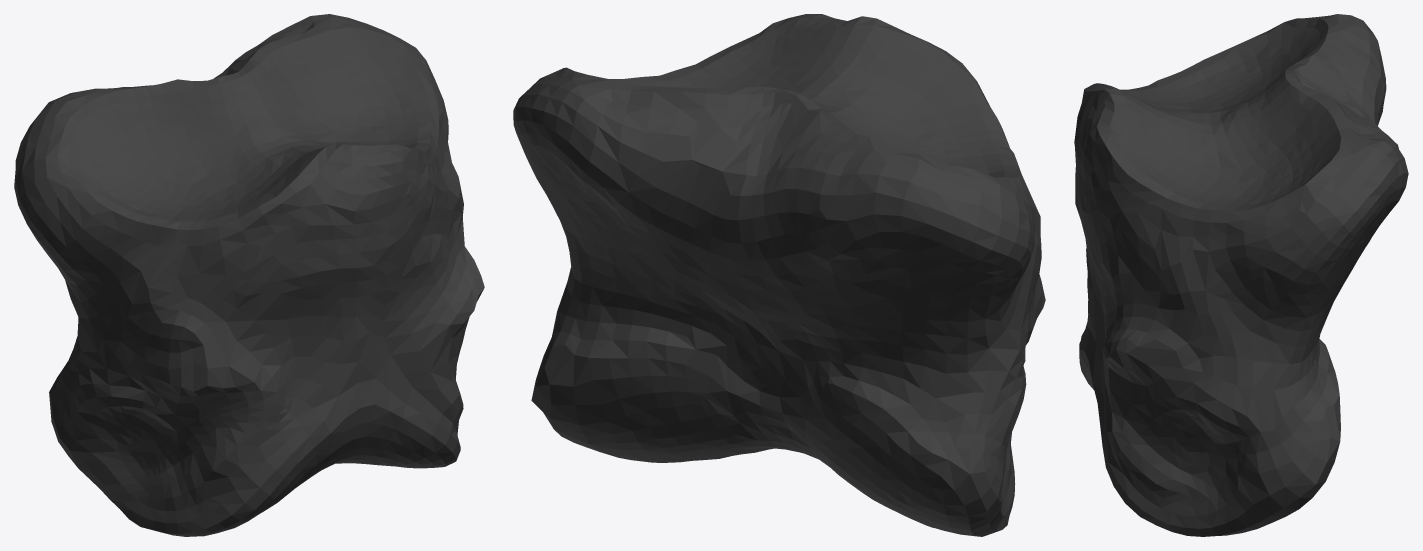
File: phal_mid.glb
3 views of the same model, side by side, from view 1: azimuth 30°, elevation 25°; view 2: azimuth 150°, elevation 25°; view 3: azimuth 270°, elevation 25° (orthographic). The views are drawn at different scales.
Parts seen in each view (by area): view 1: phal_mid; view 2: phal_mid; view 3: phal_mid.
Part boxes in pixels (x1=…): phal_mid: x1=14, y1=14, x2=484, y2=536; phal_mid: x1=513, y1=14, x2=1045, y2=536; phal_mid: x1=1074, y1=14, x2=1408, y2=536.
Size of the model in its own units: 2.01 by 1.77 by 1.39.
1 material, 1 textured.
